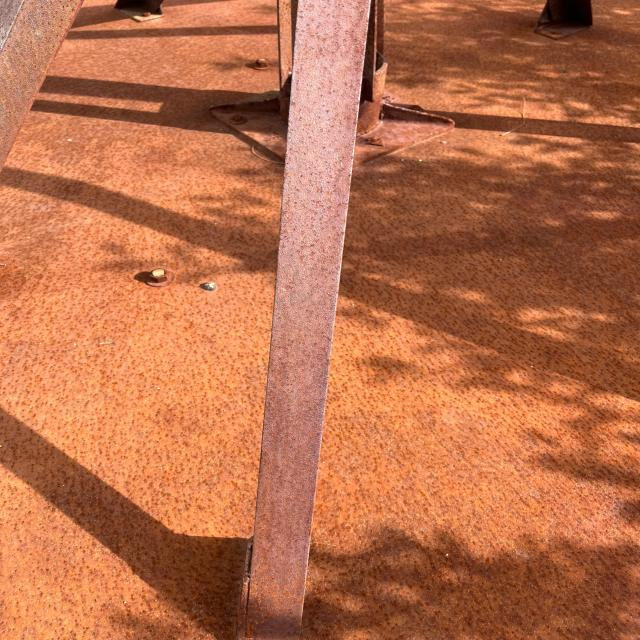Filiform Corrosion: (158, 280, 220, 295), (142, 264, 179, 288)
Uniform Corrosion: (2, 1, 640, 640), (240, 1, 375, 635), (7, 1, 86, 160)
